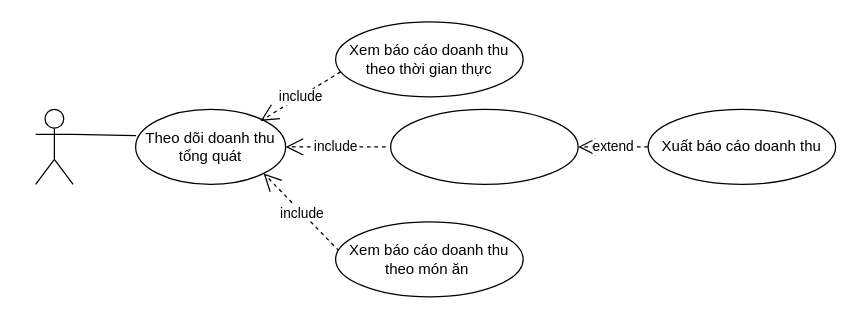
Some shapes in this 858 by 319 pixel diagram are drawn without their labels. The centre of each missing label's shape, as x and y in pixels:
Cửa hàng: the point at 53,146
Tạo báo cáo doanh thu: the point at 483,146
